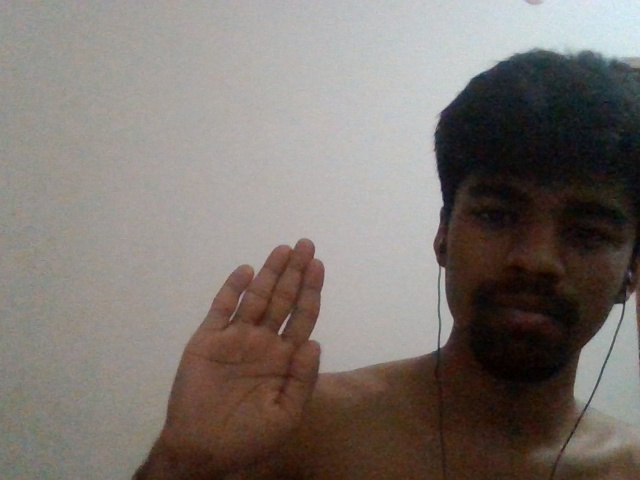Hello: (164, 234, 337, 480)
